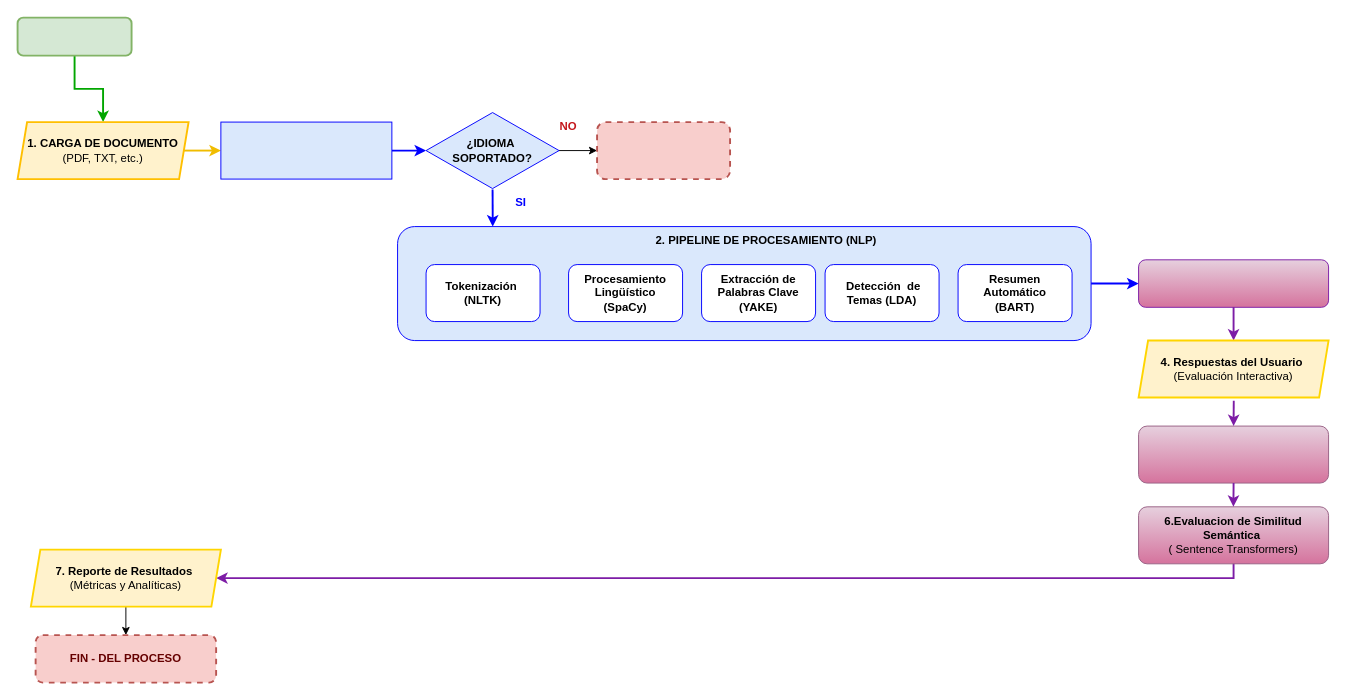
This 1345x699 diagram has some shape labels left out. Here are the shapes that lost their labels. From the top down, the centre of each, then its label:
At pixel 74 36: "INICIO".
At pixel 306 150: "PRE- PROCESAMIENTO Limpieza de Texto & Detección de Idioma".
At pixel 663 150: "FIN - ERROR (Idioma no soportado )".
At pixel 1233 283: "3. Generación de Preguntas".
At pixel 1233 454: "5. Extracción y Análisis de Respuesta ( RoBERTa QA)".
